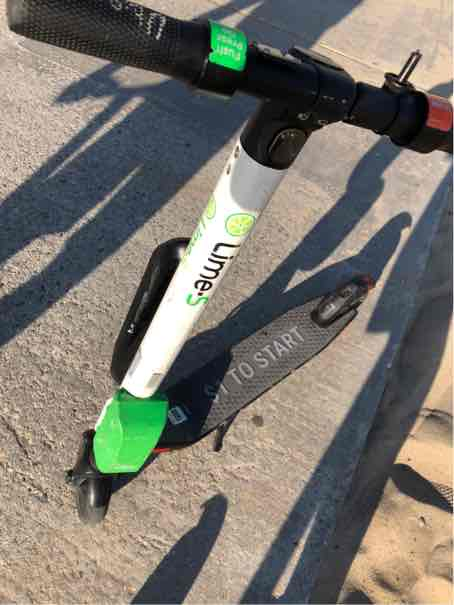scooter: (5, 1, 449, 530)
